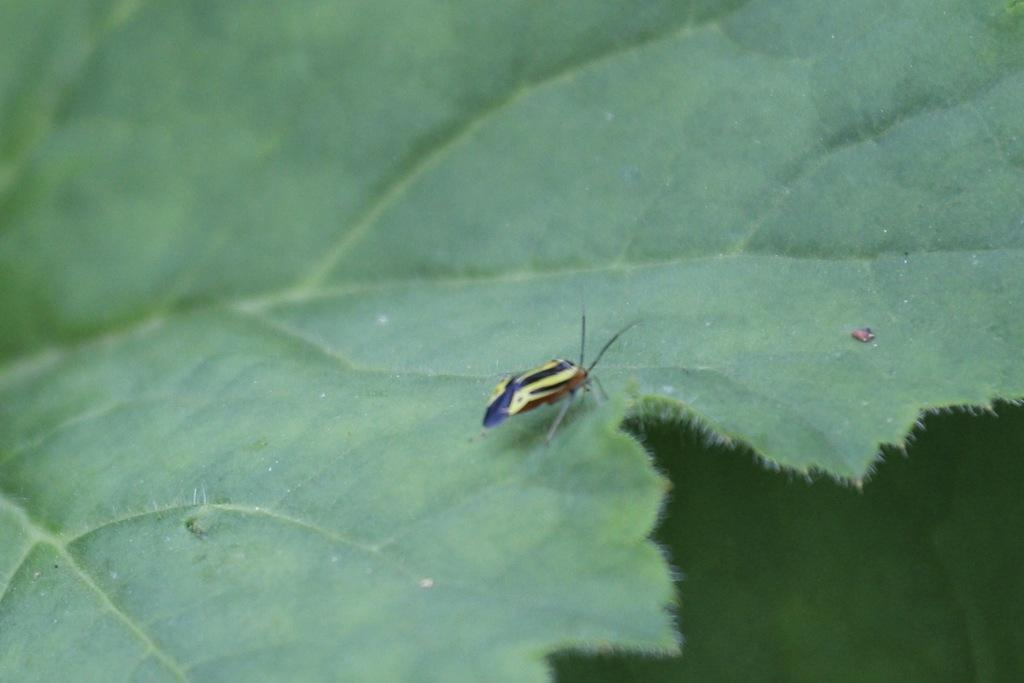plant_bugs: (455, 281, 660, 465)
